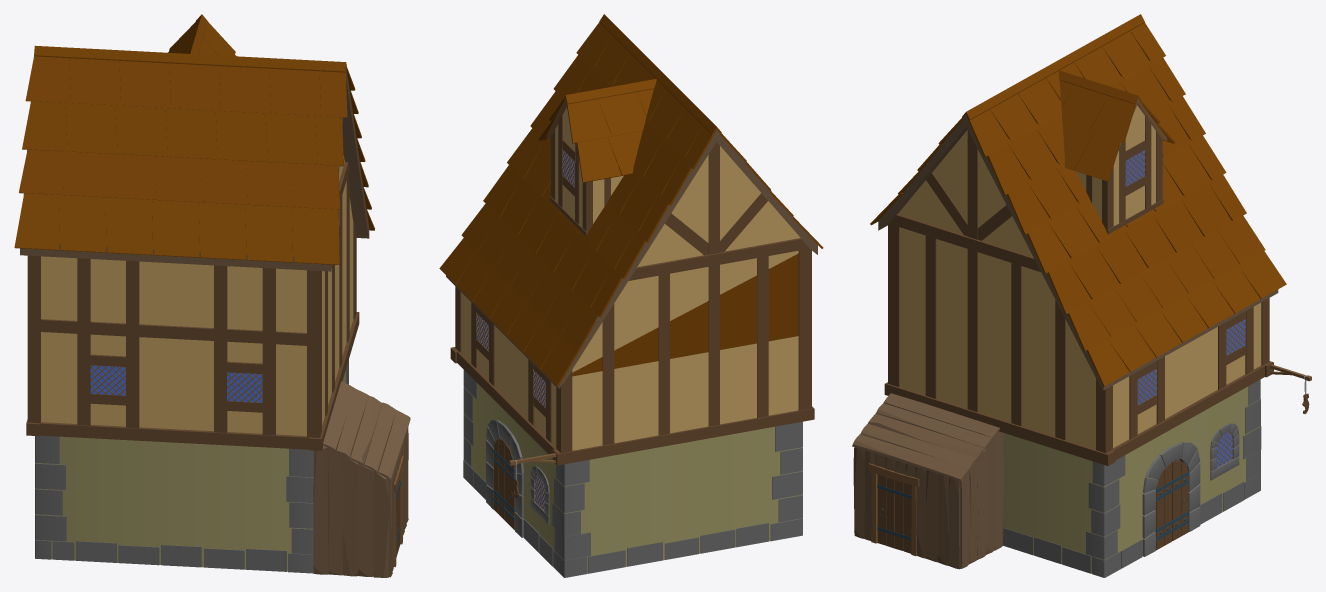
File: House5.fbx
3 renders of one model, left to right at view 1: azimuth 30°, elevation 25°; view 2: azimuth 150°, elevation 25°; view 3: azimuth 270°, elevation 25°, orthographic. The views are drawn at different scales.
Visible parts, largest first — view 1: polySurface648, polySurface565, polySurface823, polySurface830, polySurface831, polySurface829, polySurface631, polySurface653, polySurface790, polySurface654, polySurface768, polySurface747 (+29 smaller); view 2: polySurface648, polySurface565, polySurface821, polySurface820, polySurface819, polySurface828, polySurface822, polySurface652, polySurface669, polySurface835, polySurface791, polySurface827 (+25 smaller); view 3: polySurface648, polySurface565, polySurface821, polySurface820, polySurface819, polySurface828, polySurface822, polySurface628, polySurface791, polySurface826, polySurface824, polySurface834 (+35 smaller).
Part boxes in pixels (box(x1,y1,x2,y2)): polySurface648: box(20, 45, 369, 435); polySurface565: box(35, 370, 345, 573); polySurface823: box(14, 193, 339, 265); polySurface830: box(22, 101, 343, 166); polySurface831: box(25, 56, 347, 117); polySurface829: box(19, 149, 340, 209); polySurface631: box(342, 455, 388, 577); polySurface653: box(39, 422, 308, 449); polySurface790: box(40, 319, 306, 345); polySurface654: box(307, 270, 321, 437); polySurface768: box(77, 258, 90, 425); polySurface747: box(262, 268, 275, 435); polySurface648: box(446, 14, 817, 450); polySurface565: box(463, 370, 802, 577); polySurface821: box(483, 165, 622, 317); polySurface820: box(461, 203, 597, 351); polySurface819: box(439, 238, 578, 386); polySurface828: box(576, 22, 714, 169); polySurface822: box(507, 128, 645, 279); polySurface652: box(552, 406, 814, 465); polySurface669: box(708, 142, 719, 426); polySurface835: box(566, 89, 653, 143); polySurface791: box(546, 79, 656, 226); polySurface827: box(633, 120, 691, 205); polySurface648: box(878, 14, 1278, 449); polySurface565: box(1003, 379, 1260, 577); polySurface821: box(1048, 175, 1246, 314); polySurface820: box(1068, 216, 1265, 351); polySurface819: box(1087, 251, 1286, 386); polySurface828: box(967, 23, 1165, 157); polySurface822: box(1027, 135, 1226, 273); polySurface628: box(915, 467, 960, 569); polySurface791: box(1058, 70, 1167, 225); polySurface826: box(987, 114, 1064, 195); polySurface824: box(1007, 162, 1089, 234); polySurface834: box(1059, 80, 1136, 143).
Size of the model in its own units: 151 by 174 by 168.
